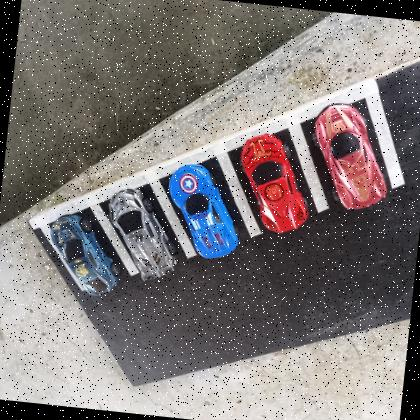Car: (307, 100, 396, 214), (232, 130, 316, 238), (160, 160, 246, 260), (102, 186, 184, 286), (42, 212, 124, 297)
